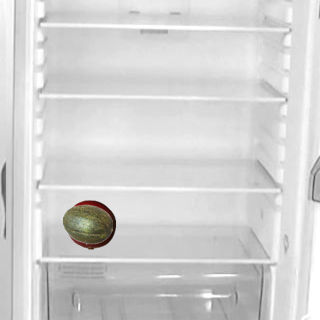Apple Braeburn: (65, 199, 115, 249)
Melon Piel de Sapo: (62, 199, 112, 249)
